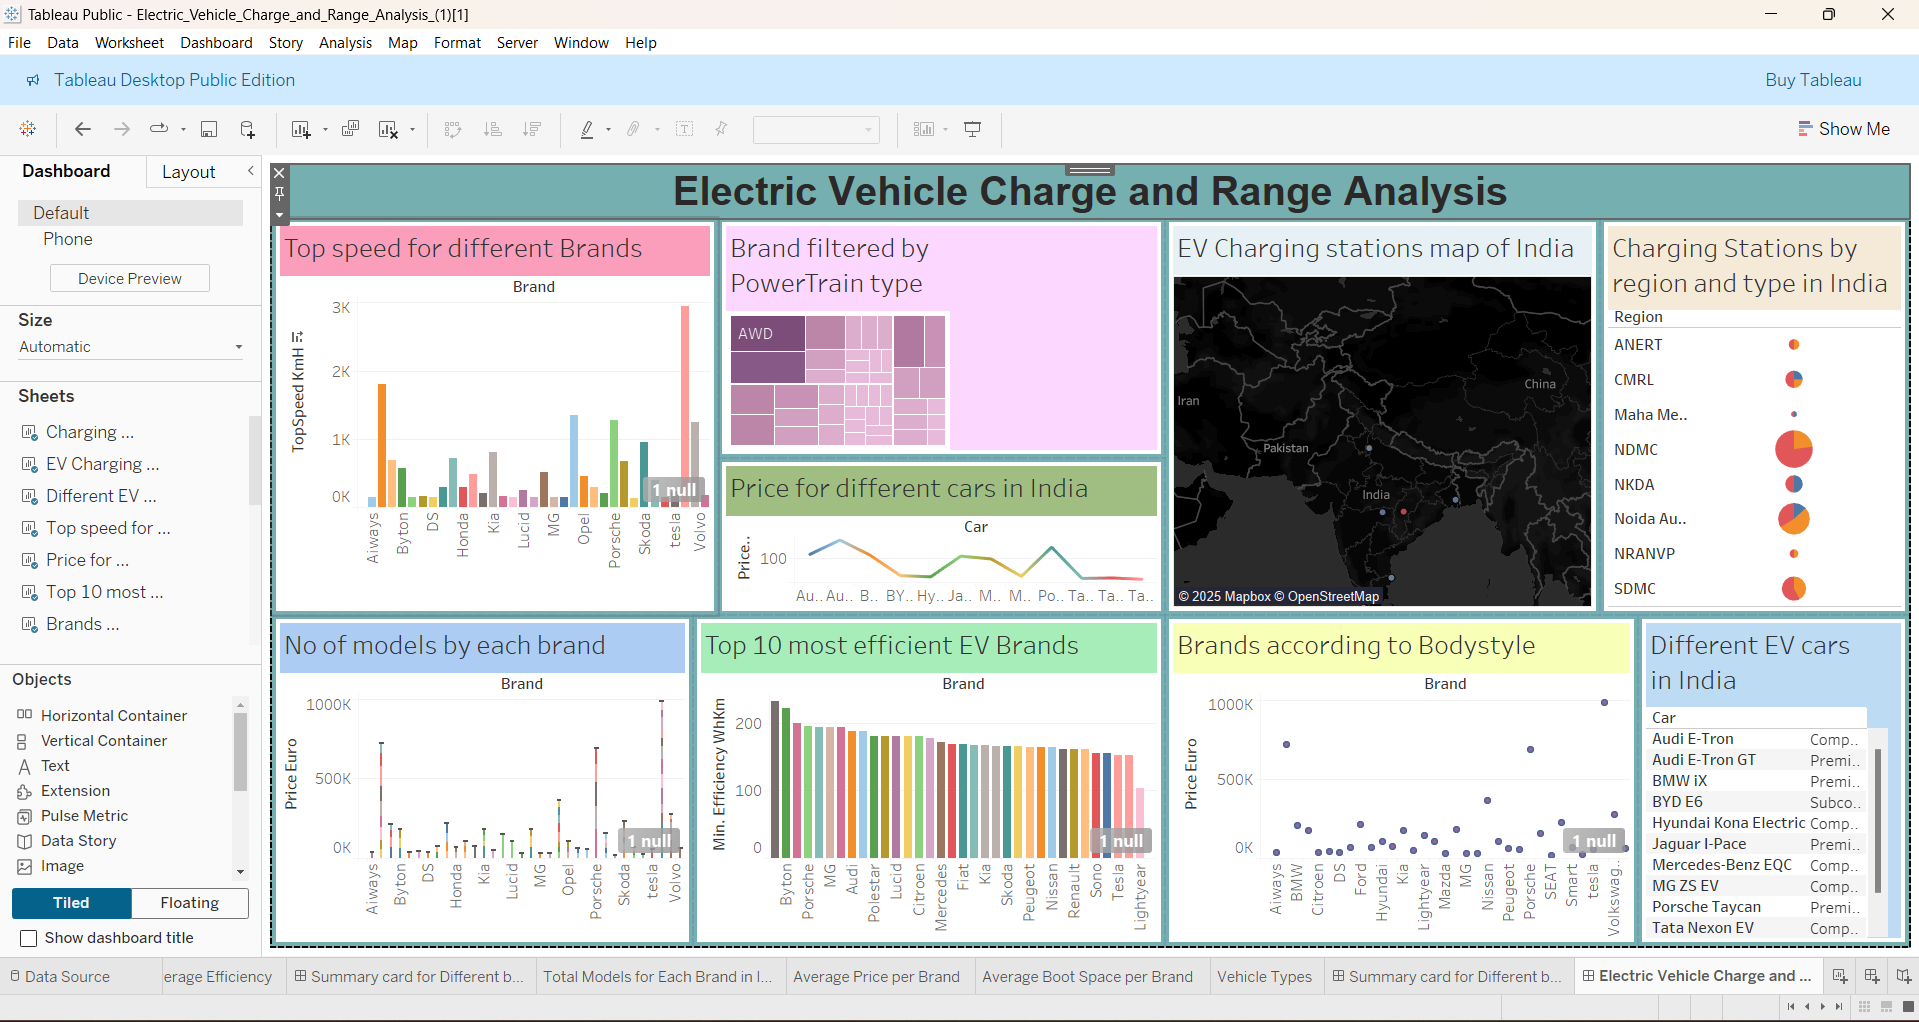

The page's visual inventory and layout, read from the dashboard file:
{"tool":"tableau","page":{"name":"Electric Vehicle Charge and Range Analysis","canvas":[1000,1000],"units":"permille","ordinal":0},"visuals":[{"type":"title","box":[6,12.5,987.9,66.2]},{"type":"worksheet","title":"Top speed for different Brands","mark":"Automatic","rows":["TopSpeed_KmH"],"cols":["Brand"],"box":[6,78.7,269.1,495.5]},{"type":"worksheet","title":"Brand filtered by PowerTrain type","mark":"Automatic","box":[275.1,78.7,269.7,299.8]},{"type":"worksheet","title":"EV Charging stations map of India","mark":"Multipolygon","rows":["latitude"],"cols":["longitude"],"box":[544.8,78.7,262.7,495.5]},{"type":"worksheet","title":"Charging Stations by region and type in India","mark":"Pie","rows":["region"],"box":[807.6,78.7,186.4,495.5]},{"type":"worksheet","title":"Price for different cars in India","mark":"Line","rows":["PriceRange(Lakhs)"],"cols":["Car"],"box":[275.1,378.5,269.7,195.7]},{"type":"worksheet","title":"No of models by each brand","mark":"Bar","rows":["PriceEuro"],"cols":["Brand"],"box":[6,574.1,253.8,413.4]},{"type":"worksheet","title":"Top 10 most efficient EV Brands","mark":"Automatic","rows":["Efficiency_WhKm"],"cols":["Brand"],"box":[259.8,574.1,285,413.4]},{"type":"worksheet","title":"Brands according to Bodystyle","mark":"Heatmap","rows":["PriceEuro"],"cols":["Brand"],"box":[544.8,574.1,285.6,413.4]},{"type":"worksheet","title":"Different EV cars in India","mark":"Automatic","rows":["Car"],"box":[830.5,574.1,163.5,413.4]}]}

Visuals, with their boxes on the dashboard's canvas, which has no fixed pixel size, in thousandths of its width and height (x1, y1, x2, y2). These are canvas units, not pixel positions in the 1919x1022 screenshot, which may show the page scaled, cropped or inside an application window:
title: BBox(6, 12, 994, 79)
"Top speed for different Brands" worksheet: BBox(6, 79, 275, 574)
"Brand filtered by PowerTrain type" worksheet: BBox(275, 79, 545, 378)
"EV Charging stations map of India" worksheet (Multipolygon marks): BBox(545, 79, 808, 574)
"Charging Stations by region and type in India" worksheet (Pie marks): BBox(808, 79, 994, 574)
"Price for different cars in India" worksheet (Line marks): BBox(275, 378, 545, 574)
"No of models by each brand" worksheet (Bar marks): BBox(6, 574, 260, 988)
"Top 10 most efficient EV Brands" worksheet: BBox(260, 574, 545, 988)
"Brands according to Bodystyle" worksheet (Heatmap marks): BBox(545, 574, 830, 988)
"Different EV cars in India" worksheet: BBox(830, 574, 994, 988)
